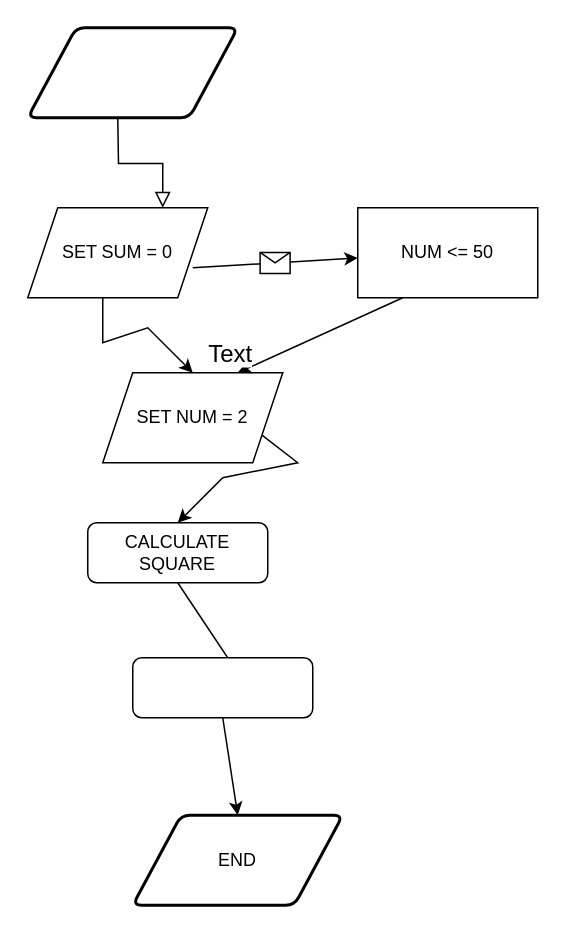
Some shapes in this 564 by 932 pixel diagram are drawn without their labels. The shapes that lost their labels are listed below. From the top down, each one's centre as x and y in pixels, then its label:
At (132,72): "START".
At (222,687): "INCREASE NUMBER BY 2".
